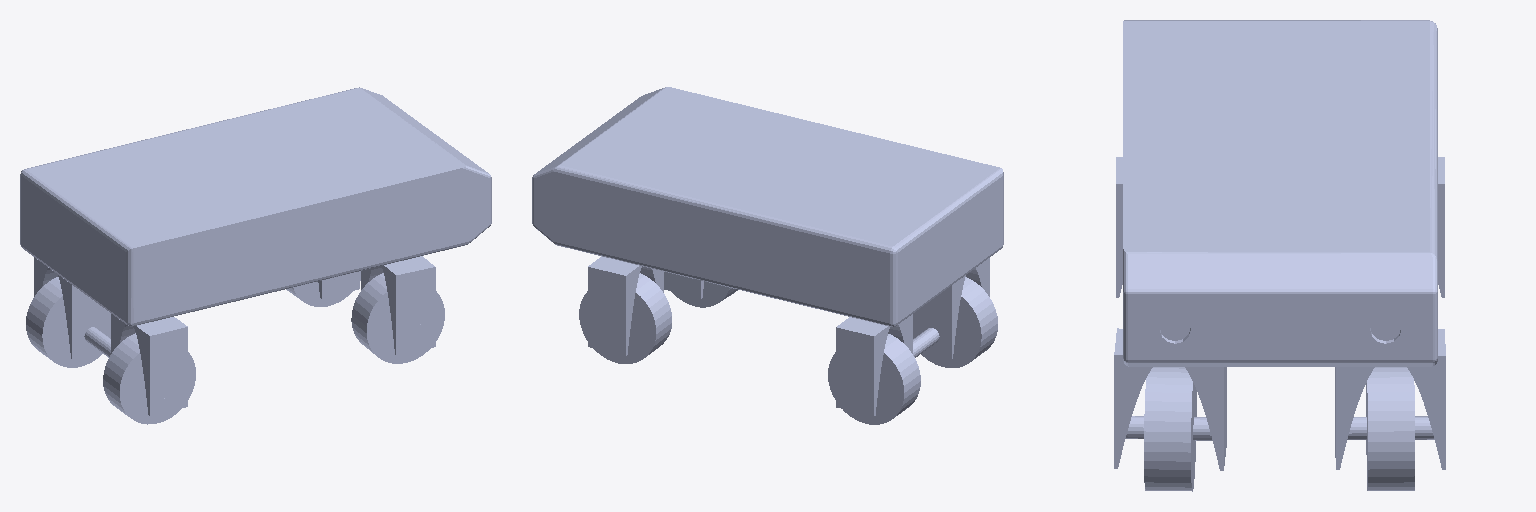
robot.urdf — husky:
<?xml version="1.0" ?>
<!-- =================================================================================== -->
<!-- |    This document was autogenerated by xacro from husky_integration.urdf.xacro   | -->
<!-- |    EDITING THIS FILE BY HAND IS NOT RECOMMENDED                                 | -->
<!-- =================================================================================== -->
<!-- Name your robot here -->
<robot name="husky">
  <link name="base_link"/>
  <joint name="base_link_to_chassis" type="fixed">
    <parent link="base_link"/>
    <child link="Chassis"/>
  </joint>
  <link name="Chassis">
    <inertial>
      <origin rpy="0 0 0" xyz="-0.00409511910471694 -7.92446652583267E-05 0.378414294437562"/>
      <mass value="98.2091641278018"/>
      <inertia ixx="2.43706506980442" ixy="-0.000192777669574608" ixz="1.33323634062716E-05" iyy="7.76169144977584" iyz="0.000771573849380231" izz="9.53629526187739"/>
    </inertial>
    <visual>
      <origin rpy="0 0 0" xyz="0 0 0"/>
      <geometry>
        <mesh filename="package://husky/meshes/Chassis.STL"/>
      </geometry>
      <material name="">
        <color rgba="0.792156862745098 0.819607843137255 0.933333333333333 1"/>
      </material>
    </visual>
    <collision>
      <origin rpy="0 0 0" xyz="0 0 0"/>
      <geometry>
        <mesh filename="package://husky/meshes/Chassis.STL"/>
      </geometry>
    </collision>
  </link>
  <link name="Front_L_lateral">
    <inertial>
      <origin rpy="0 0 0" xyz="6.32840144176861E-09 5.59948220568707E-08 -0.0900878133769817"/>
      <mass value="1.56068233140516"/>
      <inertia ixx="0.00440193254427216" ixy="-3.88814756276166E-06" ixz="1.17225961295948E-09" iyy="0.00468417393852864" iyz="-1.52397334132621E-08" izz="0.00215293929877346"/>
    </inertial>
    <visual>
      <origin rpy="0 0 0" xyz="0 0 0"/>
      <geometry>
        <mesh filename="package://husky/meshes/Front_L_lateral.STL"/>
      </geometry>
      <material name="">
        <color rgba="0.792156862745098 0.819607843137255 0.933333333333333 1"/>
      </material>
    </visual>
    <collision>
      <origin rpy="0 0 0" xyz="0 0 0"/>
      <geometry>
        <mesh filename="package://husky/meshes/Front_L_lateral.STL"/>
      </geometry>
    </collision>
  </link>
  <joint name="Front_L_lateral_joint" type="revolute">
    <origin rpy="0 0 3.14159265358979" xyz="0.277600320101877 0.1778 0.2666746"/>
    <parent link="Chassis"/>
    <child link="Front_L_lateral"/>
    <axis xyz="0 0 1"/>
    <limit effort="30" lower="-0.5" upper="0.5" velocity="100"/>
  </joint>
  <link name="wheel_FL">
    <inertial>
      <origin rpy="0 0 0" xyz="0 -5.55111512312578E-17 -1.38413591995734E-05"/>
      <mass value="2.3833672867985"/>
      <inertia ixx="0.00752117923800553" ixy="1.60333390448917E-18" ixz="-6.91178884959509E-18" iyy="0.00752117923800553" iyz="-1.52686865250883E-18" izz="0.0127375442021922"/>
    </inertial>
    <visual>
      <origin rpy="0 0 0" xyz="0 0 0"/>
      <geometry>
        <mesh filename="package://husky/meshes/wheel_FL.STL"/>
      </geometry>
      <material name="">
        <color rgba="0.792156862745098 0.819607843137255 0.933333333333333 1"/>
      </material>
    </visual>
    <collision>
      <origin rpy="0 0 0" xyz="0 0 0"/>
      <geometry>
        <mesh filename="package://husky/meshes/wheel_FL.STL"/>
      </geometry>
    </collision>
  </link>
  <joint name="wheel_FL_joint" type="continuous">
    <origin rpy="1.5707963267949 0 0.0137725196566579" xyz="0 -0.00025397591072851 -0.165100000000001"/>
    <parent link="Front_L_lateral"/>
    <child link="wheel_FL"/>
    <axis xyz="-0.0576811894510143 0 -0.998335054169449"/>
  </joint>
  <link name="Front_R_lateral">
    <inertial>
      <origin rpy="0 0 0" xyz="-9.68773519738342E-09 -5.52423745220354E-08 -0.0900878142178023"/>
      <mass value="1.56068241667093"/>
      <inertia ixx="0.00440249549661789" ixy="1.31752084700576E-05" ixz="-2.45792301781752E-10" iyy="0.0046836116815121" iyz="1.53412531549081E-08" izz="0.0021529393553379"/>
    </inertial>
    <visual>
      <origin rpy="0 0 0" xyz="0 0 0"/>
      <geometry>
        <mesh filename="package://husky/meshes/Front_R_lateral.STL"/>
      </geometry>
      <material name="">
        <color rgba="0.792156862745098 0.819607843137255 0.933333333333333 1"/>
      </material>
    </visual>
    <collision>
      <origin rpy="0 0 0" xyz="0 0 0"/>
      <geometry>
        <mesh filename="package://husky/meshes/Front_R_lateral.STL"/>
      </geometry>
    </collision>
  </link>
  <joint name="Front_R_lateral_joint" type="revolute">
    <origin rpy="0 0 3.14159265358979" xyz="0.277600320101878 -0.1778 0.266674599999999"/>
    <parent link="Chassis"/>
    <child link="Front_R_lateral"/>
    <axis xyz="0 0 1"/>
    <limit effort="30" lower="-0.5" upper="0.5" velocity="100"/>
  </joint>
  <link name="wheel_FR">
    <inertial>
      <origin rpy="0 0 0" xyz="0 0 1.38413591996983E-05"/>
      <mass value="2.3833672867985"/>
      <inertia ixx="0.00752117923800552" ixy="1.59902634902589E-18" ixz="-3.55076211489003E-18" iyy="0.00752117923800552" iyz="3.07306291419973E-18" izz="0.0127375442021922"/>
    </inertial>
    <visual>
      <origin rpy="0 0 0" xyz="0 0 0"/>
      <geometry>
        <mesh filename="package://husky/meshes/wheel_FR.STL"/>
      </geometry>
      <material name="">
        <color rgba="0.792156862745098 0.819607843137255 0.933333333333333 1"/>
      </material>
    </visual>
    <collision>
      <origin rpy="0 0 0" xyz="0 0 0"/>
      <geometry>
        <mesh filename="package://husky/meshes/wheel_FR.STL"/>
      </geometry>
    </collision>
  </link>
  <joint name="wheel_FR_joint" type="continuous">
    <origin rpy="1.5707963267949 0 -0.0467308215193505" xyz="1.18653090454834E-05 0.000253722711709981 -0.165100000000001"/>
    <parent link="Front_R_lateral"/>
    <child link="wheel_FR"/>
    <axis xyz="0 0 1"/>
  </joint>
  <link name="Back_L_lateral">
    <inertial>
      <origin rpy="0 0 0" xyz="-7.09657854702783E-09 0.0750121877140557 0.000254056245475087"/>
      <mass value="1.56068222160202"/>
      <inertia ixx="0.00440187852124776" ixy="-9.62172481420887E-10" ixz="1.5643067493271E-11" iyy="0.00215293922624177" iyz="-1.51787007981222E-08" izz="0.00468422707038218"/>
    </inertial>
    <visual>
      <origin rpy="0 0 0" xyz="0 0 0"/>
      <geometry>
        <mesh filename="package://husky/meshes/Back_L_lateral.STL"/>
      </geometry>
      <material name="">
        <color rgba="0.792156862745098 0.819607843137255 0.933333333333333 1"/>
      </material>
    </visual>
    <collision>
      <origin rpy="0 0 0" xyz="0 0 0"/>
      <geometry>
        <mesh filename="package://husky/meshes/Back_L_lateral.STL"/>
      </geometry>
    </collision>
  </link>
  <joint name="Back_L_lateral_joint" type="fixed">
    <origin rpy="1.5707963267949 0 3.14159265358979" xyz="-0.38192523364007 0.177546 0.101574599999999"/>
    <parent link="Chassis"/>
    <child link="Back_L_lateral"/>
    <axis xyz="0 0 0"/>
  </joint>
  <link name="wheel_LB">
    <inertial>
      <origin rpy="0 0 0" xyz="1.11022302462516E-16 0 1.38413591996289E-05"/>
      <mass value="2.3833672867985"/>
      <inertia ixx="0.00752117923800552" ixy="-5.95487152246847E-19" ixz="5.41377533629747E-18" iyy="0.00752117923800552" iyz="-5.68895854154682E-18" izz="0.0127375442021922"/>
    </inertial>
    <visual>
      <origin rpy="0 0 0" xyz="0 0 0"/>
      <geometry>
        <mesh filename="package://husky/meshes/wheel_LB.STL"/>
      </geometry>
      <material name="">
        <color rgba="0.792156862745098 0.819607843137255 0.933333333333333 1"/>
      </material>
    </visual>
    <collision>
      <origin rpy="0 0 0" xyz="0 0 0"/>
      <geometry>
        <mesh filename="package://husky/meshes/wheel_LB.STL"/>
      </geometry>
    </collision>
  </link>
  <joint name="wheel_LB_joint" type="continuous">
    <origin rpy="0 0 0" xyz="0 0 0"/>
    <parent link="Back_L_lateral"/>
    <child link="wheel_LB"/>
    <axis xyz="0 0 1"/>
  </joint>
  <link name="Back_R_lateral">
    <inertial>
      <origin rpy="0 0 0" xyz="6.28080043529877E-09 0.0663892566855093 0.0201847240194173"/>
      <mass value="1.76339054861497"/>
      <inertia ixx="0.00495428485328606" ixy="9.62172475562444E-10" ixz="1.5643065374316E-11" iyy="0.00270534555828007" iyz="1.51787008022865E-08" izz="0.00472100874970409"/>
    </inertial>
    <visual>
      <origin rpy="0 0 0" xyz="0 0 0"/>
      <geometry>
        <mesh filename="package://husky/meshes/Back_R_lateral.STL"/>
      </geometry>
      <material name="">
        <color rgba="0.792156862745098 0.819607843137255 0.933333333333333 1"/>
      </material>
    </visual>
    <collision>
      <origin rpy="0 0 0" xyz="0 0 0"/>
      <geometry>
        <mesh filename="package://husky/meshes/Back_R_lateral.STL"/>
      </geometry>
    </collision>
  </link>
  <joint name="Back_R_lateral_joint" type="fixed">
    <origin rpy="1.5707963267949 0 3.14159265358979" xyz="-0.381925233640069 -0.177546 0.101574599999999"/>
    <parent link="Chassis"/>
    <child link="Back_R_lateral"/>
    <axis xyz="0 0 0"/>
  </joint>
  <link name="wheel_RB">
    <inertial>
      <origin rpy="0 0 0" xyz="1.11022302462516E-16 -5.55111512312578E-17 -1.38413591996983E-05"/>
      <mass value="2.3833672867985"/>
      <inertia ixx="0.00752117923800552" ixy="-1.0020935174662E-18" ixz="6.14617236406643E-18" iyy="0.00752117923800552" iyz="5.51223971161121E-18" izz="0.0127375442021922"/>
    </inertial>
    <visual>
      <origin rpy="0 0 0" xyz="0 0 0"/>
      <geometry>
        <mesh filename="package://husky/meshes/wheel_RB.STL"/>
      </geometry>
      <material name="">
        <color rgba="0.792156862745098 0.819607843137255 0.933333333333333 1"/>
      </material>
    </visual>
    <collision>
      <origin rpy="0 0 0" xyz="0 0 0"/>
      <geometry>
        <mesh filename="package://husky/meshes/wheel_RB.STL"/>
      </geometry>
    </collision>
  </link>
  <joint name="wheel_RB_joint" type="continuous">
    <origin rpy="0 0 0" xyz="0 0 0"/>
    <parent link="Back_R_lateral"/>
    <child link="wheel_RB"/>
    <axis xyz="0 0 1"/>
  </joint>
  <transmission name="wheel_BR_trans">
    <type>transmission_interface/SimpleTransmission</type>
    <joint name="wheel_RB_joint">
      <hardwareInterface>hardware_interface/VelocityJointInterface</hardwareInterface>
    </joint>
    <actuator name="wheel_BR_motor">
      <hardwareInterface>hardware_interface/VelocityJointInterface</hardwareInterface>
    </actuator>
  </transmission>
  <transmission name="wheel_BL_trans">
    <type>transmission_interface/SimpleTransmission</type>
    <joint name="wheel_LB_joint">
      <hardwareInterface>hardware_interface/VelocityJointInterface</hardwareInterface>
    </joint>
    <actuator name="wheel_BL_motor">
      <hardwareInterface>hardware_interface/VelocityJointInterface</hardwareInterface>
    </actuator>
  </transmission>
  <transmission name="Front_R_lateral_trans">
    <type>transmission_interface/SimpleTransmission</type>
    <joint name="Front_R_lateral_joint">
      <hardwareInterface>hardware_interface/EffortJointInterface</hardwareInterface>
    </joint>
    <actuator name="Front_R_lateral_motor">
      <hardwareInterface>hardware_interface/EffortJointInterface</hardwareInterface>
    </actuator>
  </transmission>
  <transmission name="Front_L_lateral_trans">
    <type>transmission_interface/SimpleTransmission</type>
    <joint name="Front_L_lateral_joint">
      <hardwareInterface>hardware_interface/EffortJointInterface</hardwareInterface>
    </joint>
    <actuator name="Front_L_lateral_motor">
      <hardwareInterface>hardware_interface/EffortJointInterface</hardwareInterface>
    </actuator>
  </transmission>
  <link name="base_laser">
    <inertial>
      <origin rpy="0 0 0" xyz="-0.00029774 0.0066667 0.00013047"/>
      <mass value="0.15717"/>
      <inertia ixx="6.7885E-05" ixy="-1.3987E-07" ixz="-8.1554E-07" iyy="0.00013173" iyz="-9.0932E-08" izz="7.1972E-05"/>
    </inertial>
    <visual>
      <origin rpy="0 0 0" xyz="0 0 0"/>
      <geometry>
        <mesh filename="package://husky/meshes/ydlidar.dae"/>
      </geometry>
      <material name="">
        <color rgba="0.64706 0.61961 0.58824 1"/>
      </material>
    </visual>
    <collision>
      <origin rpy="0 0 0" xyz="0 0 0"/>
      <geometry>
        <mesh filename="package://husky/meshes/ydlidar.dae"/>
      </geometry>
    </collision>
  </link>
  <link name="laser_frame">
    <inertial>
      <origin rpy="0 0 0" xyz="-0.00036659 0.00064155 -0.00027052"/>
      <mass value="0.25482"/>
      <inertia ixx="8.9194E-05" ixy="1.8116E-07" ixz="3.6435E-08" iyy="0.00018279" iyz="2.423E-07" izz="0.00011103"/>
    </inertial>
    <!--visual>
      <origin
        xyz="0 0 0"
        rpy="0 0 0" />
      <geometry>
        <mesh
          filename="package://husky/meshes/ydlidar.dae" />
      </geometry>
      <material
        name="">
        <color
          rgba="0.64706 0.61961 0.58824 1" />
      </material>
    </visual-->
    <!--collision>
      <origin
        xyz="0 0 0"
        rpy="0 0 0" />
      <geometry>
        <mesh
          filename="package://husky/meshes/ydlidar.dae" />
      </geometry>
    </collision-->
  </link>
  <joint name="laser_joint" type="fixed">
    <origin rpy="0 0 0" xyz="0 0 0.03172"/>
    <parent link="base_laser"/>
    <child link="laser_frame"/>
    <axis xyz="0 0 0"/>
  </joint>
  <!-- Add your gazebo sensors here -->
  <gazebo reference="base_laser">
    <!-- <gravity>true</gravity> -->
    <!-- Gazebo has fixed set of Sensors types. Check them out here <> -->
    <sensor name="laser" type="ray">
      <!-- Add in your sensor characteristics -->
      <pose> 0 0 0 0 0 0 </pose>
      <visualise>true</visualise>
      <update_rate>40</update_rate>
      <!-- <always_on>true</always_on> -->
      <ray>
        <scan>
          <horizontal>
            <samples>720</samples>
            <resolution>1</resolution>
            <min_angle>-1.570796</min_angle>
            <max_angle>1.570796</max_angle>
          </horizontal>
        </scan>
        <range>
          <min>0.10</min>
          <max>30.0</max>
          <resolution>0.01</resolution>
        </range>
        <noise>
          <type>gaussian</type>
          <mean>0.0</mean>
          <stddev>0.01</stddev>
        </noise>
      </ray>
      <plugin filename="libgazebo_ros_laser.so" name="gazebo_ros_head_hokuyo_controller">
        <!-- Use topic name as /my_robot/scan -->
        <topicName>/husky/scan</topicName>
        <frameName>laser_frame</frameName>
      </plugin>
    </sensor>
  </gazebo>
  <!--  Gazebo plugin for control here is already added for you -->
  <gazebo>
    <plugin filename="libgazebo_ros_control.so" name="gazebo_ros_control">
      <robotNamespace>/husky</robotNamespace>
      <robotSimType>gazebo_ros_control/DefaultRobotHWSim</robotSimType>
      <legacyModeNS>true</legacyModeNS>
    </plugin>
  </gazebo>
  <!-- Create a joint between your robot and sensor -->
  <joint name="link_to_lidar" type="fixed">
    <parent link="Chassis"/>
    <child link="base_laser"/>
    <origin rpy="0 0 0" xyz="0 0 0.485775"/>
  </joint>
</robot>

--- Render facts (derived) ---
Views: 3 orthographic renders of the robot side by side, from view 1: azimuth 30°, elevation 25°; view 2: azimuth 150°, elevation 25°; view 3: azimuth 270°, elevation 25°.
Model husky with 12 links and 11 joints (2 revolute, 4 continuous, 5 fixed), rooted at base_link, posed every joint at zero.
Visible links, largest first — view 1: Chassis, Back_R_lateral, Front_R_lateral, wheel_RB, wheel_FR, wheel_LB, Back_L_lateral, wheel_FL, Front_L_lateral; view 2: Chassis, Back_L_lateral, Front_L_lateral, wheel_LB, wheel_FL, Back_R_lateral, wheel_RB, wheel_FR, Front_R_lateral; view 3: Chassis, wheel_FR, wheel_FL, Front_R_lateral, Front_L_lateral, Back_L_lateral, Back_R_lateral.
Boxes of the visible links, x1=… form: Chassis: x1=20, y1=87, x2=491, y2=326; Back_R_lateral: x1=84, y1=314, x2=187, y2=415; Front_R_lateral: x1=361, y1=256, x2=435, y2=355; wheel_RB: x1=103, y1=333, x2=195, y2=424; wheel_FR: x1=351, y1=273, x2=444, y2=363; wheel_LB: x1=26, y1=277, x2=102, y2=367; Back_L_lateral: x1=34, y1=257, x2=110, y2=359; wheel_FL: x1=286, y1=271, x2=360, y2=306; Front_L_lateral: x1=318, y1=271, x2=359, y2=298; Chassis: x1=532, y1=87, x2=1003, y2=326; Back_L_lateral: x1=836, y1=314, x2=912, y2=416; Front_L_lateral: x1=588, y1=256, x2=663, y2=355; wheel_LB: x1=828, y1=334, x2=920, y2=424; wheel_FL: x1=579, y1=273, x2=671, y2=363; Back_R_lateral: x1=913, y1=258, x2=989, y2=359; wheel_RB: x1=921, y1=277, x2=997, y2=367; wheel_FR: x1=671, y1=281, x2=737, y2=307; Front_R_lateral: x1=664, y1=272, x2=703, y2=298; Chassis: x1=1123, y1=20, x2=1437, y2=366; wheel_FR: x1=1144, y1=367, x2=1196, y2=491; wheel_FL: x1=1366, y1=367, x2=1414, y2=490; Front_R_lateral: x1=1114, y1=328, x2=1226, y2=470; Front_L_lateral: x1=1335, y1=329, x2=1445, y2=469; Back_L_lateral: x1=1438, y1=157, x2=1444, y2=297; Back_R_lateral: x1=1116, y1=157, x2=1122, y2=297.
Size in the robot's own frame: 0.968 by 0.5364 by 0.48 metres.
Meshes: 10 distinct files referenced, 9 mesh visuals loaded (9 binary STL); not drawn: 1 (reference not matched to a file when rendering).
